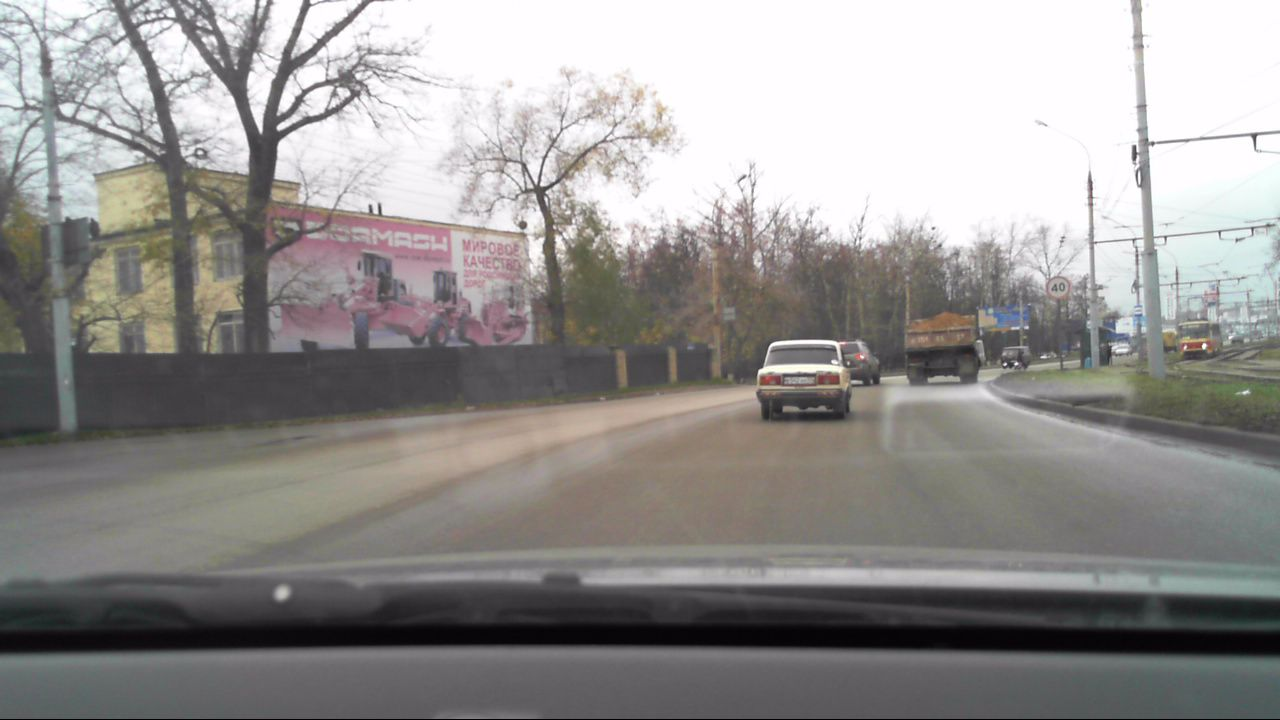speed_warning_40: (1045, 274, 1071, 299)
